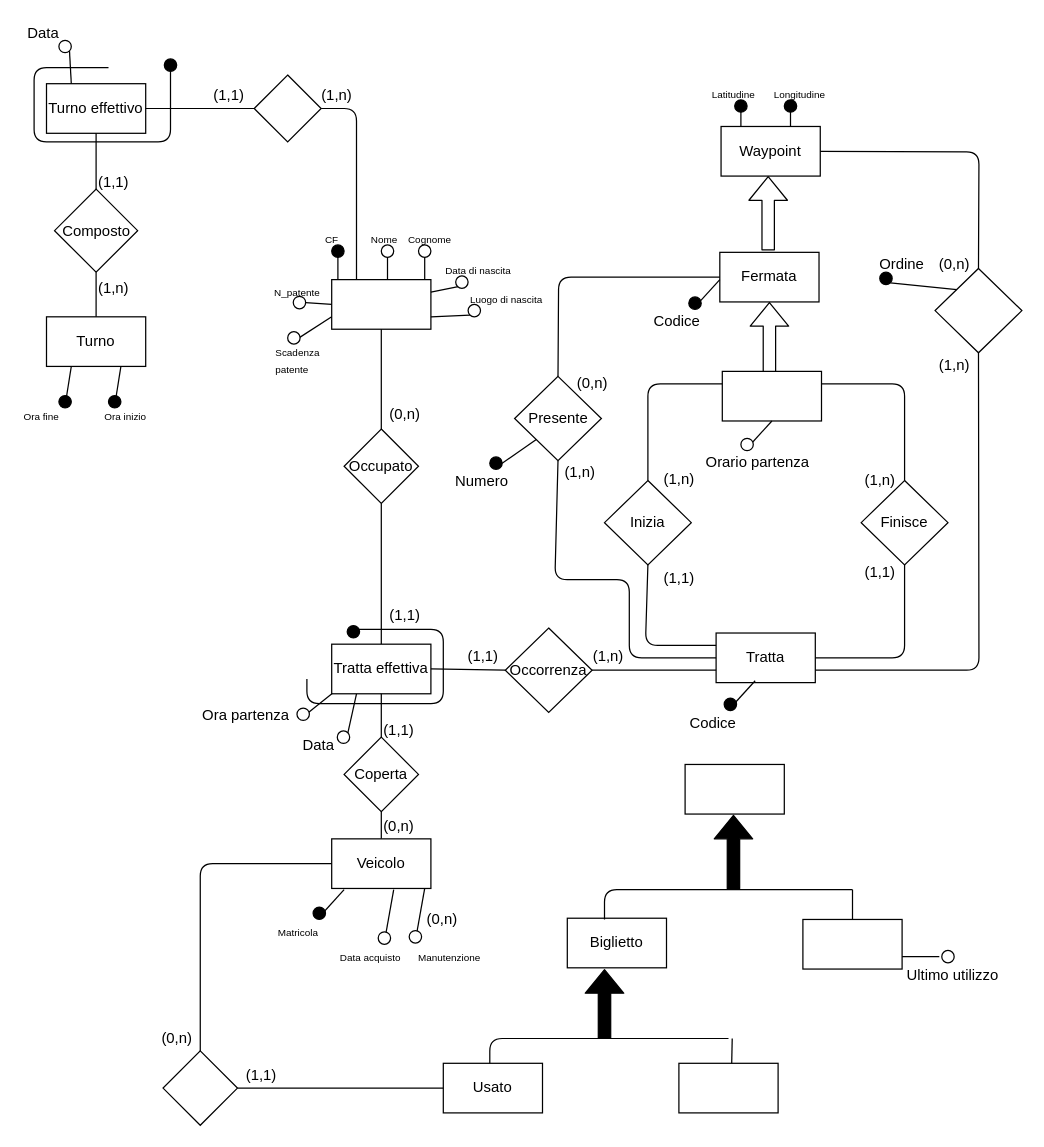
This 1044x1147 diagram has some shape labels left out. Each missing label, with the centre of its shape:
"Abbonamento" belongs at pixel 852 943.
"Capolinea" belongs at pixel 771 395.
"Conducente" belongs at pixel 380 303.
"Lavora" belongs at pixel 287 108.
"Nuovo" belongs at pixel 728 1087.
"Posizione" belongs at pixel 978 310.
"Timbrato" belongs at pixel 199 1087.
"Titolo" belongs at pixel 734 788.
